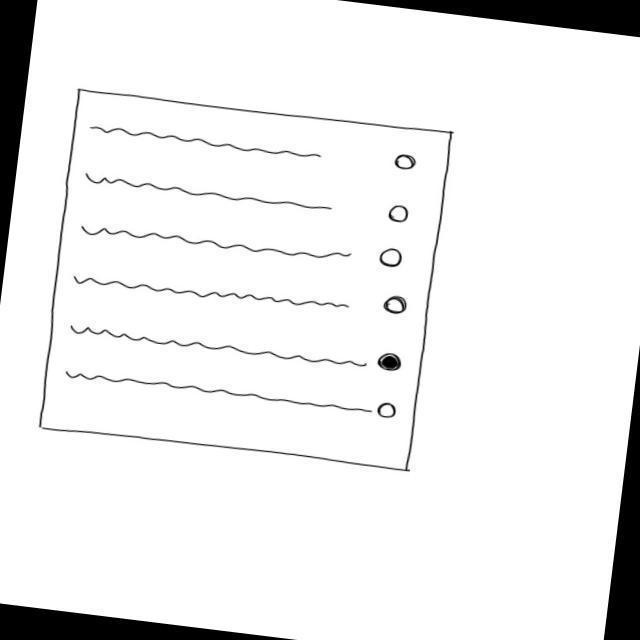container: (36, 83, 457, 477)
radio: (378, 247, 407, 276), (376, 352, 407, 377), (384, 294, 410, 321), (395, 149, 420, 176), (388, 204, 415, 226), (376, 402, 402, 421)
